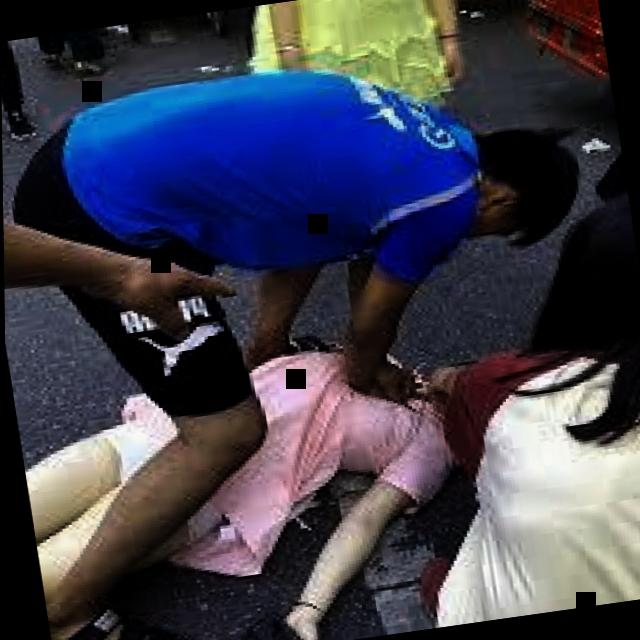Fall-Detected: (9, 293, 499, 640)
